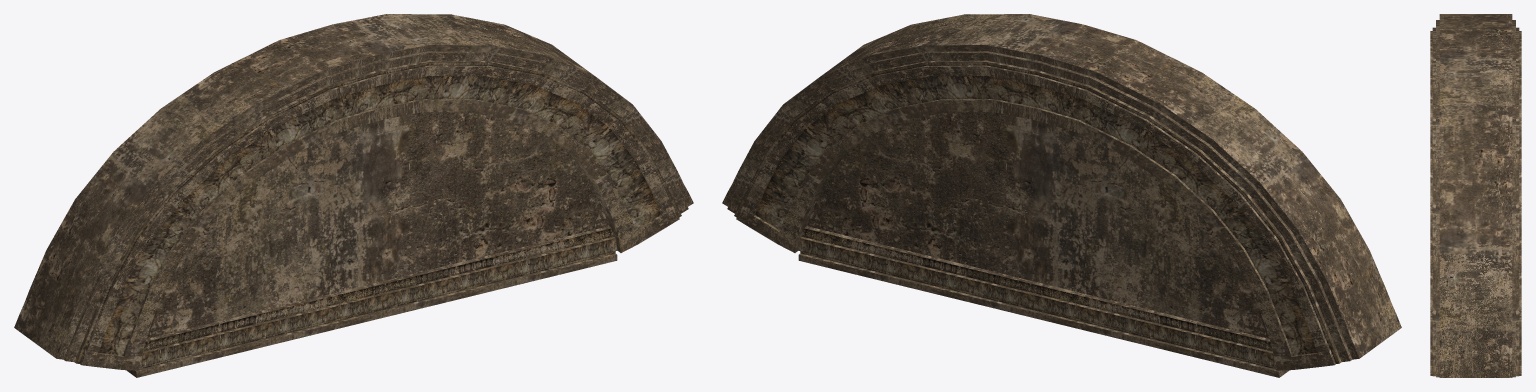
File: materials_5_roof_11.fbx
The picture shows the model from 3 angles, left to right: view 1: azimuth 30°, elevation 25°; view 2: azimuth 150°, elevation 25°; view 3: azimuth 270°, elevation 25°; orthographic projection. The views are drawn at different scales.
Parts seen in each view (by area): view 1: materials_5_roof_11; view 2: materials_5_roof_11; view 3: materials_5_roof_11.
Boxes of the visible parts, bbox=[...] form: materials_5_roof_11: bbox=[14, 14, 693, 377]; materials_5_roof_11: bbox=[722, 14, 1401, 377]; materials_5_roof_11: bbox=[1430, 14, 1521, 377].
Size of the model in its own units: 512 by 202 by 73.97.
